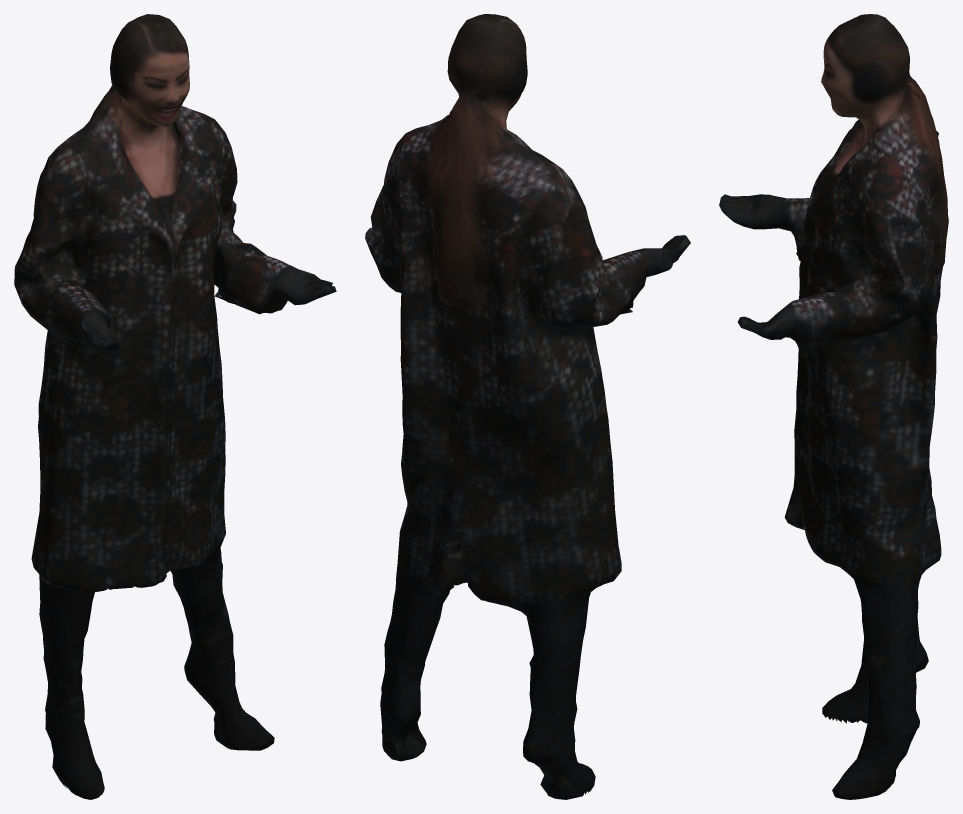
Rendered from evercoast.0098.gltf.
The picture shows the model from 3 angles, left to right: view 1: azimuth 30°, elevation 25°; view 2: azimuth 150°, elevation 25°; view 3: azimuth 270°, elevation 25°; orthographic projection. The views are drawn at different scales.
Visible parts, largest first — view 1: HIGH; view 2: HIGH; view 3: HIGH.
Boxes of the visible parts, box(x1,y1,x2,y2) form: HIGH: box(14, 14, 336, 799); HIGH: box(365, 14, 690, 799); HIGH: box(719, 14, 948, 799).
Bounding box in the file's own units: 0.6515 × 1.83 × 0.5166.
Materials: 1 (1 with a texture image).
